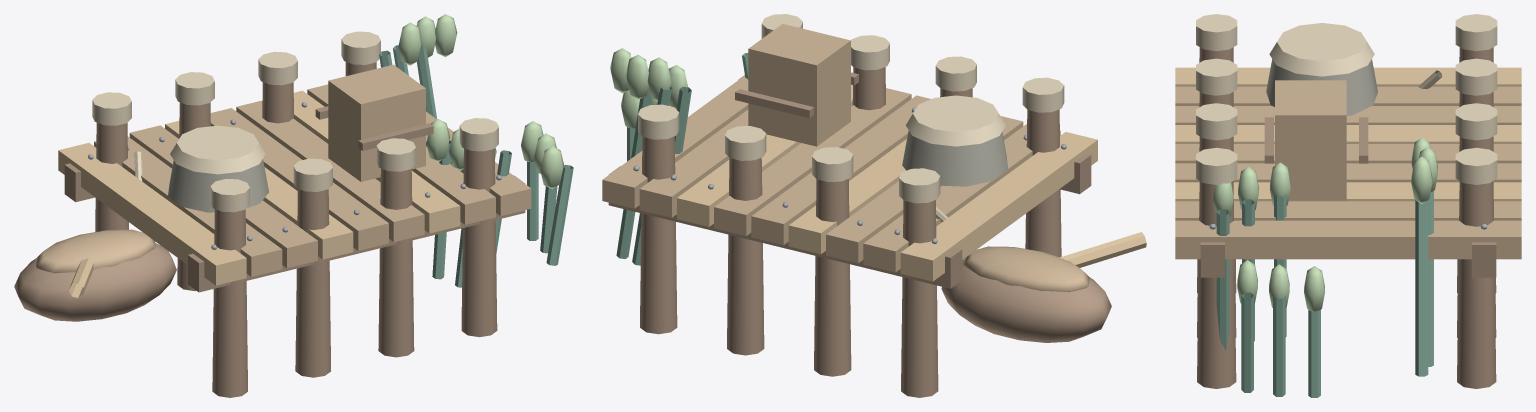
The model's file is dock.glb.
3 views of the same model, side by side, from view 1: azimuth 30°, elevation 25°; view 2: azimuth 150°, elevation 25°; view 3: azimuth 270°, elevation 25° (orthographic). The views are drawn at different scales.
Parts seen in each view (by area): view 1: LagoonDock-darkWood, LagoonDock-wood, LagoonDock-lightWood, LagoonDock-rope, LagoonDock-olive, LagoonDock-grass, LagoonDock-stoneDark; view 2: LagoonDock-darkWood, LagoonDock-wood, LagoonDock-lightWood, LagoonDock-rope, LagoonDock-stoneDark, LagoonDock-grass, LagoonDock-olive; view 3: LagoonDock-wood, LagoonDock-rope, LagoonDock-darkWood, LagoonDock-lightWood, LagoonDock-olive, LagoonDock-grass, LagoonDock-stoneDark.
Boxes of the visible parts, x1,y1,x2,y2 form: LagoonDock-darkWood: [14, 62, 525, 397]; LagoonDock-wood: [35, 64, 531, 276]; LagoonDock-lightWood: [58, 90, 460, 297]; LagoonDock-rope: [92, 31, 498, 212]; LagoonDock-olive: [379, 45, 573, 287]; LagoonDock-grass: [398, 14, 563, 189]; LagoonDock-stoneDark: [168, 159, 268, 212]; LagoonDock-darkWood: [608, 67, 1111, 397]; LagoonDock-wood: [602, 23, 1089, 292]; LagoonDock-lightWood: [677, 84, 1146, 281]; LagoonDock-rope: [638, 14, 1064, 222]; LagoonDock-stoneDark: [902, 130, 1008, 186]; LagoonDock-grass: [610, 48, 687, 128]; LagoonDock-olive: [616, 53, 748, 265]; LagoonDock-wood: [1175, 80, 1521, 259]; LagoonDock-rope: [1196, 14, 1497, 184]; LagoonDock-darkWood: [1197, 47, 1496, 388]; LagoonDock-lightWood: [1175, 67, 1521, 201]; LagoonDock-olive: [1216, 191, 1433, 397]; LagoonDock-grass: [1212, 137, 1437, 312]; LagoonDock-stoneDark: [1266, 59, 1377, 115].
Size of the model in its own units: 1.67 by 0.75 by 0.92.
